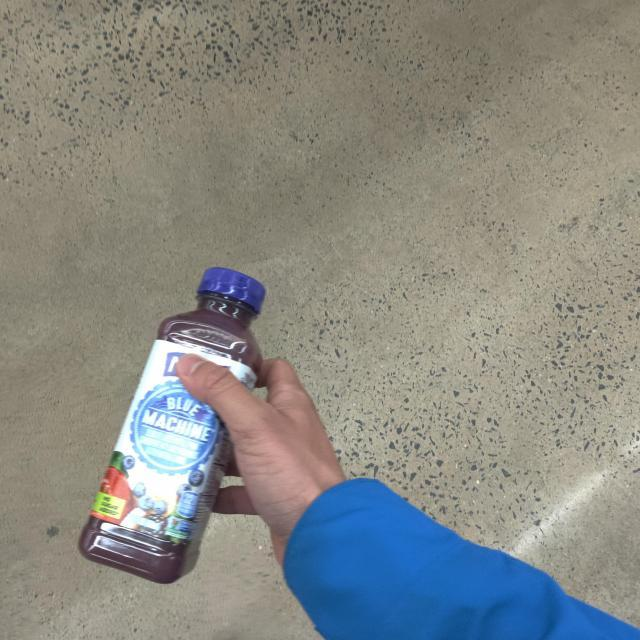Juice: (76, 258, 288, 572)
